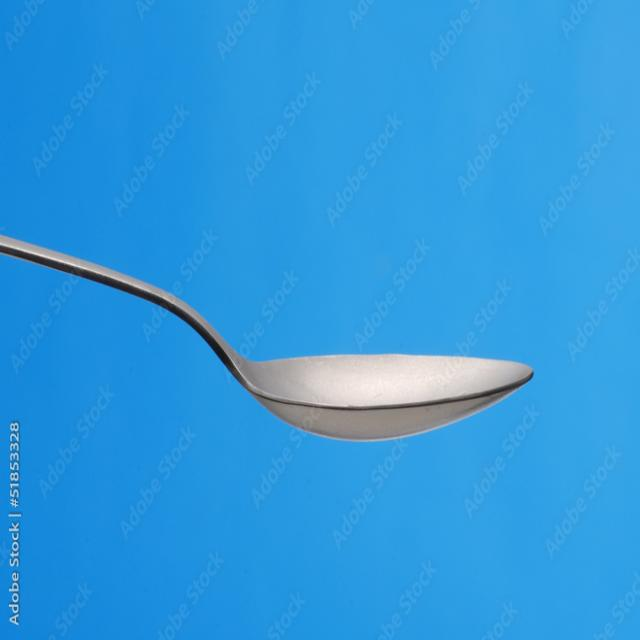spoon: (0, 130, 541, 470)
